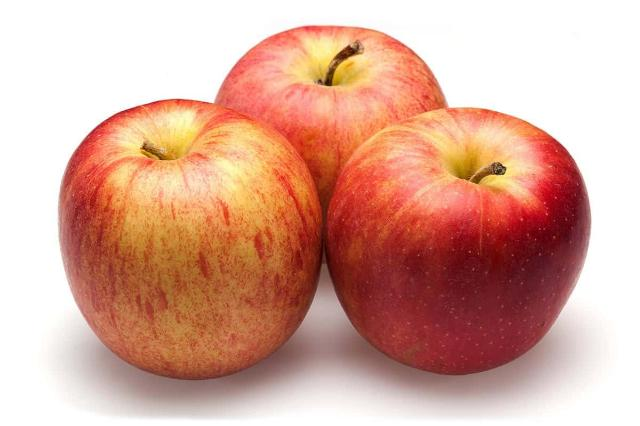Apples: (59, 98, 323, 380), (326, 106, 590, 374), (215, 25, 447, 155)
